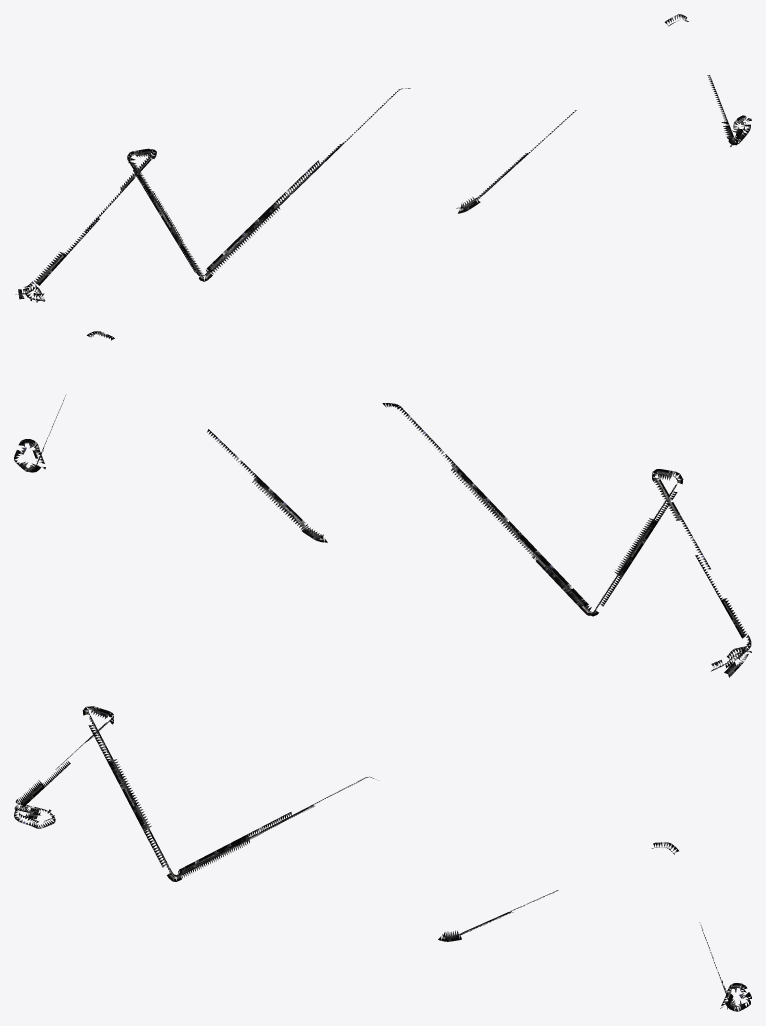
The model's file is barbed_wire.glb.
3 views of the same model, one above another, from view 1: azimuth 30°, elevation 25°; view 2: azimuth 150°, elevation 25°; view 3: azimuth 330°, elevation 25° (orthographic). The views are drawn at different scales.
Visible parts, largest first — view 1: Object_4; view 2: Object_4; view 3: Object_4.
Boxes of the visible parts, x1=… form: Object_4: x1=15, y1=14, x2=751, y2=302; Object_4: x1=14, y1=331, x2=751, y2=677; Object_4: x1=14, y1=706, x2=751, y2=1011.
Size of the model in its own units: 4.5 by 0.9298 by 0.4015.
Materials: 1 (1 with a texture image).
